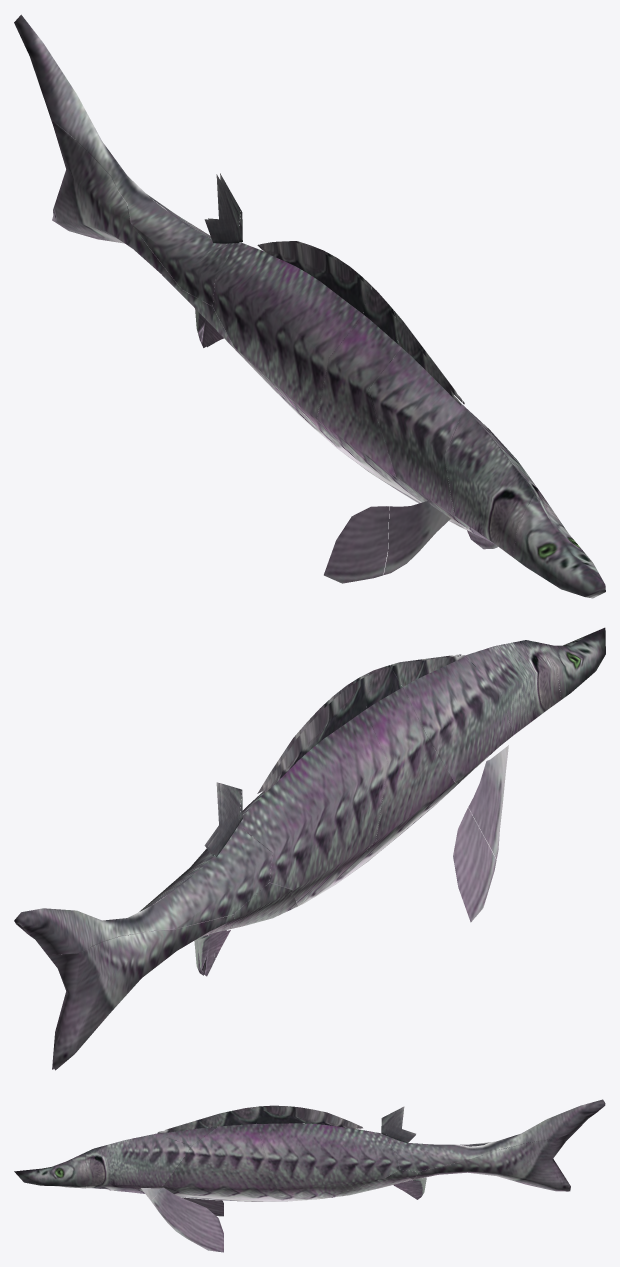
The model's file is Sturgeon Ragdoll.fbx.
3 views of the same model, one above another, from view 1: azimuth 30°, elevation 25°; view 2: azimuth 150°, elevation 25°; view 3: azimuth 270°, elevation 25° (orthographic). The views are drawn at different scales.
Parts seen in each view (by area): view 1: Retopo_Styrgeonm HI.001_cell.002, Retopo_Styrgeonm HI.001_cell.007, Retopo_Styrgeonm HI.001_cell.003, Retopo_Styrgeonm HI.001_cell.005, Retopo_Styrgeonm HI.001_cell.004, Retopo_Styrgeonm HI.001_cell.009, Retopo_Styrgeonm HI.001_cell.008, Retopo_Styrgeonm HI.001_cell.022, Retopo_Styrgeonm HI.001_cell.015, Retopo_Styrgeonm HI.001_cell.019, Retopo_Styrgeonm HI.001_cell.025, Retopo_Styrgeonm HI.001_cell.018 (+2 smaller); view 2: Retopo_Styrgeonm HI.001_cell.002, Retopo_Styrgeonm HI.001_cell.007, Retopo_Styrgeonm HI.001_cell.009, Retopo_Styrgeonm HI.001_cell.003, Retopo_Styrgeonm HI.001_cell.005, Retopo_Styrgeonm HI.001_cell.004, Retopo_Styrgeonm HI.001_cell.022, Retopo_Styrgeonm HI.001_cell.015, Retopo_Styrgeonm HI.001_cell.008, Retopo_Styrgeonm HI.001_cell.019, Retopo_Styrgeonm HI.001_cell, Retopo_Styrgeonm HI.001_cell.025 (+2 smaller); view 3: Retopo_Styrgeonm HI.001_cell.002, Retopo_Styrgeonm HI.001_cell.005, Retopo_Styrgeonm HI.001_cell.001, Retopo_Styrgeonm HI.001_cell.007, Retopo_Styrgeonm HI.001_cell.009, Retopo_Styrgeonm HI.001_cell.024, Retopo_Styrgeonm HI.001_cell.008, Retopo_Styrgeonm HI.001_cell.017, Retopo_Styrgeonm HI.001_cell, Retopo_Styrgeonm HI.001_cell.026, Retopo_Styrgeonm HI.001_cell.003, Retopo_Styrgeonm HI.001_cell.023 (+3 smaller).
Boxes of the visible parts, x1,y1,x2,y2 form: Retopo_Styrgeonm HI.001_cell.002: [212, 242, 372, 448]; Retopo_Styrgeonm HI.001_cell.007: [14, 14, 235, 306]; Retopo_Styrgeonm HI.001_cell.003: [368, 348, 470, 527]; Retopo_Styrgeonm HI.001_cell.005: [317, 315, 458, 526]; Retopo_Styrgeonm HI.001_cell.004: [444, 408, 533, 556]; Retopo_Styrgeonm HI.001_cell.009: [50, 118, 213, 306]; Retopo_Styrgeonm HI.001_cell.008: [513, 495, 605, 598]; Retopo_Styrgeonm HI.001_cell.022: [324, 506, 389, 583]; Retopo_Styrgeonm HI.001_cell.015: [257, 241, 368, 313]; Retopo_Styrgeonm HI.001_cell.019: [383, 501, 450, 574]; Retopo_Styrgeonm HI.001_cell.025: [204, 174, 238, 243]; Retopo_Styrgeonm HI.001_cell.018: [387, 308, 460, 405]; Retopo_Styrgeonm HI.001_cell.002: [198, 710, 387, 906]; Retopo_Styrgeonm HI.001_cell.007: [14, 826, 272, 954]; Retopo_Styrgeonm HI.001_cell.009: [47, 915, 234, 1070]; Retopo_Styrgeonm HI.001_cell.003: [403, 656, 512, 783]; Retopo_Styrgeonm HI.001_cell.005: [339, 687, 458, 881]; Retopo_Styrgeonm HI.001_cell.004: [465, 640, 561, 735]; Retopo_Styrgeonm HI.001_cell.022: [453, 808, 496, 922]; Retopo_Styrgeonm HI.001_cell.015: [261, 674, 371, 794]; Retopo_Styrgeonm HI.001_cell.008: [535, 627, 605, 699]; Retopo_Styrgeonm HI.001_cell.019: [468, 745, 508, 859]; Retopo_Styrgeonm HI.001_cell: [198, 882, 297, 933]; Retopo_Styrgeonm HI.001_cell.025: [208, 783, 241, 856]; Retopo_Styrgeonm HI.001_cell.002: [257, 1123, 399, 1201]; Retopo_Styrgeonm HI.001_cell.005: [160, 1124, 282, 1201]; Retopo_Styrgeonm HI.001_cell.001: [85, 1134, 191, 1189]; Retopo_Styrgeonm HI.001_cell.007: [386, 1099, 605, 1171]; Retopo_Styrgeonm HI.001_cell.009: [413, 1131, 575, 1191]; Retopo_Styrgeonm HI.001_cell.024: [151, 1187, 223, 1252]; Retopo_Styrgeonm HI.001_cell.008: [14, 1152, 86, 1188]; Retopo_Styrgeonm HI.001_cell.017: [251, 1106, 362, 1128]; Retopo_Styrgeonm HI.001_cell: [324, 1163, 417, 1198]; Retopo_Styrgeonm HI.001_cell.026: [383, 1107, 415, 1143]; Retopo_Styrgeonm HI.001_cell.003: [156, 1126, 217, 1173]; Retopo_Styrgeonm HI.001_cell.023: [218, 1108, 256, 1126].
Bounding box in the file's own units: 148 × 256 × 1019.
